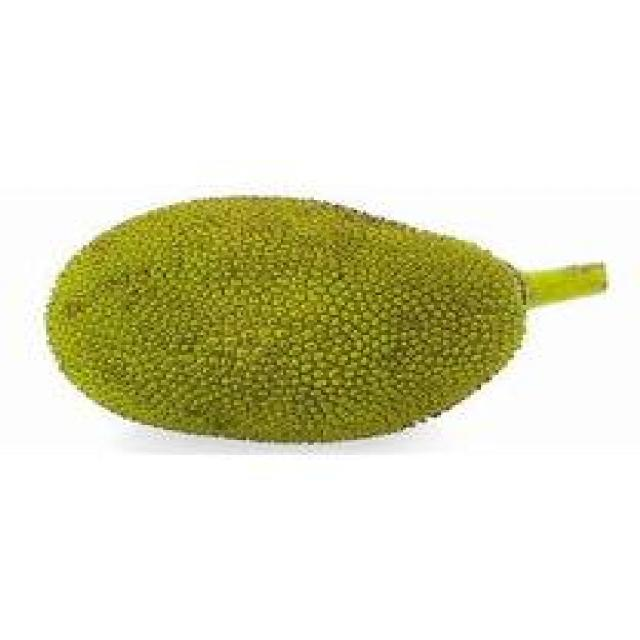Fruit: (157, 170, 548, 472)
